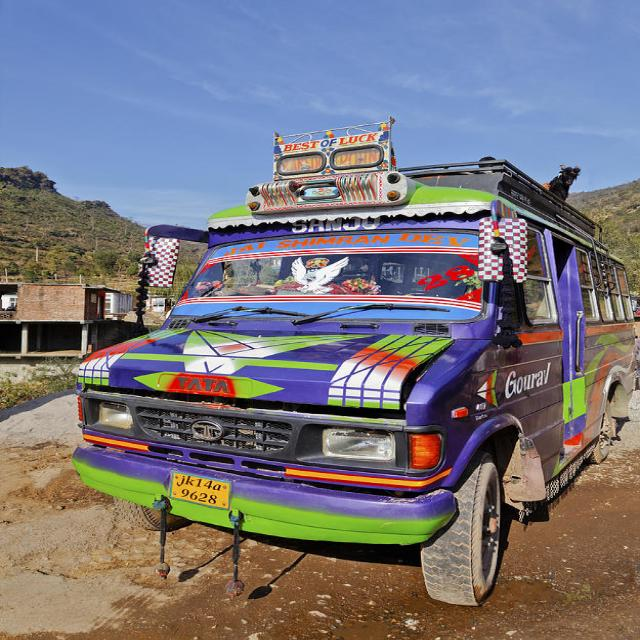truck: (74, 121, 635, 604)
